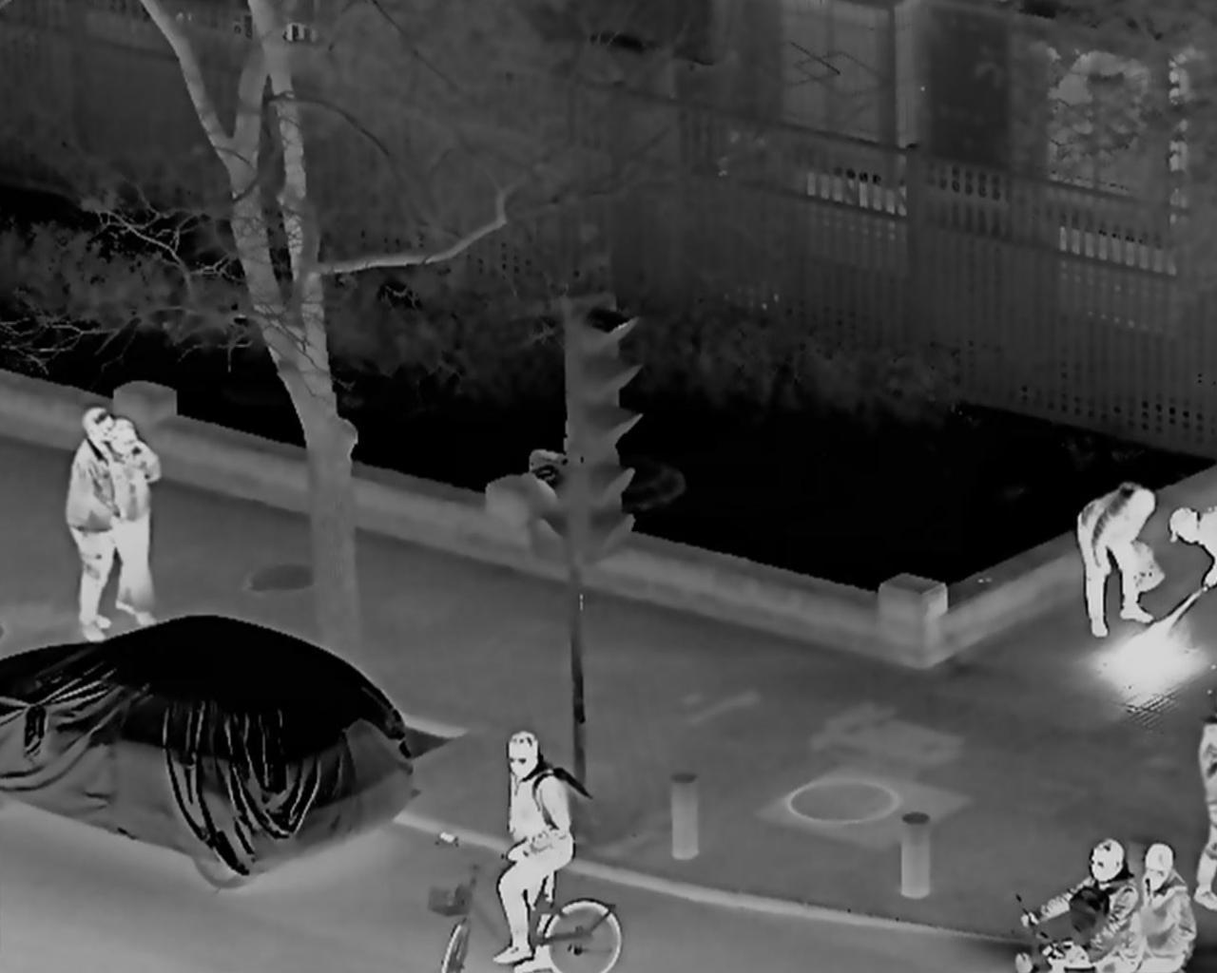person: (496, 730, 573, 969), (1017, 840, 1144, 973), (62, 409, 122, 638), (1077, 479, 1157, 637), (106, 418, 161, 635), (1126, 844, 1196, 973), (1171, 506, 1215, 595)
